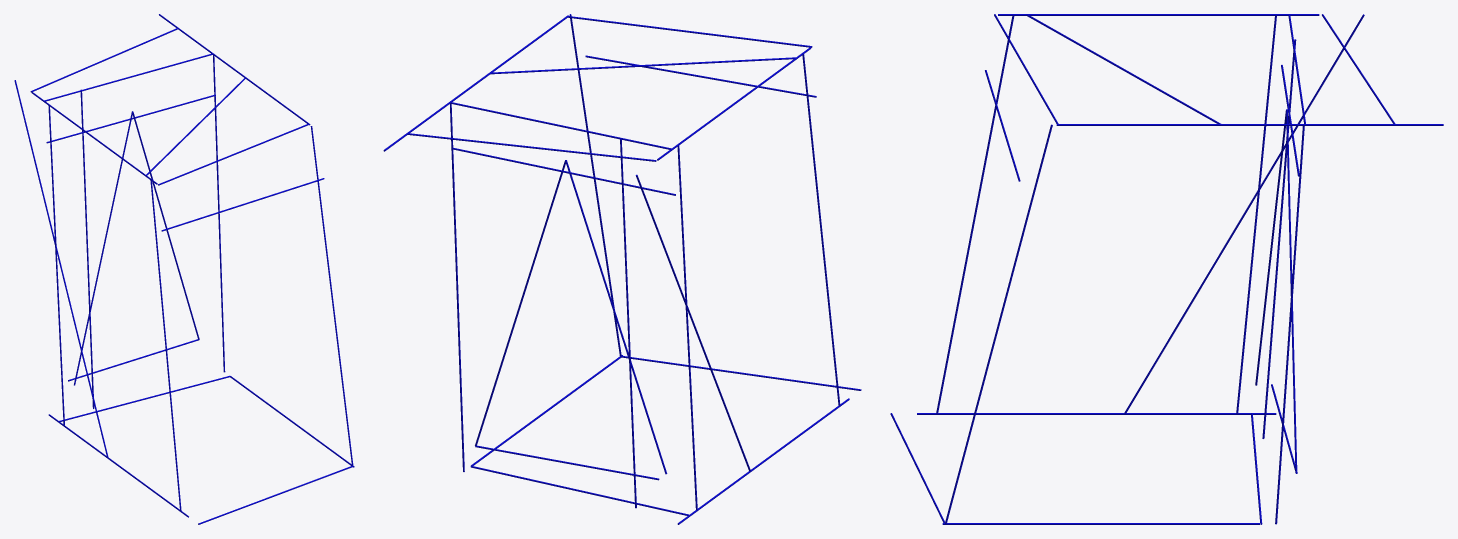
The model's file is corrected_3d_strokes.glb.
The picture shows the model from 3 angles, left to right: view 1: azimuth 30°, elevation 25°; view 2: azimuth 150°, elevation 25°; view 3: azimuth 270°, elevation 25°; orthographic projection. The views are drawn at different scales.
Visible parts, largest first — view 1: world; view 2: world; view 3: world.
Part boxes in pixels (x1,y1,x2,y2): world: [14, 14, 354, 524]; world: [383, 14, 861, 524]; world: [890, 14, 1443, 524].
Size of the model in its own units: 5.18 by 8.72 by 10.91.
